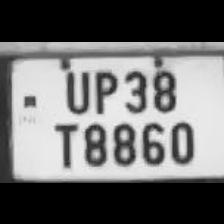0: (165, 115, 197, 165)
3: (118, 63, 148, 111)
6: (139, 118, 167, 166)
8: (148, 63, 180, 111), (80, 118, 108, 166), (109, 118, 137, 166)
P: (89, 63, 119, 113)
T: (47, 116, 79, 168)
U: (57, 63, 90, 113)
